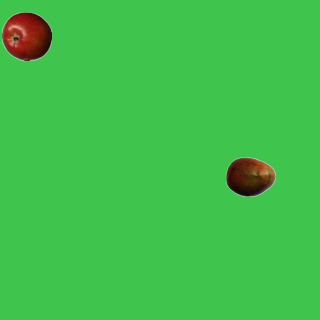Apple Braeburn: (1, 11, 51, 61)
Mango Red: (225, 151, 275, 201)
